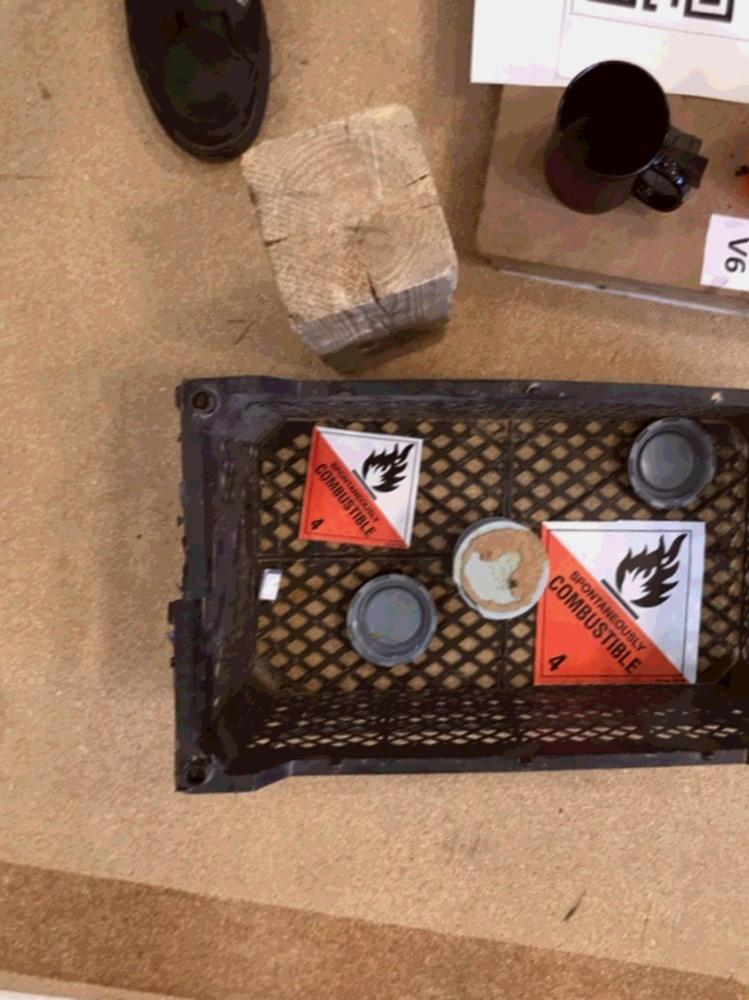spontaneously-combustible: (528, 511, 702, 693), (298, 423, 422, 557)
